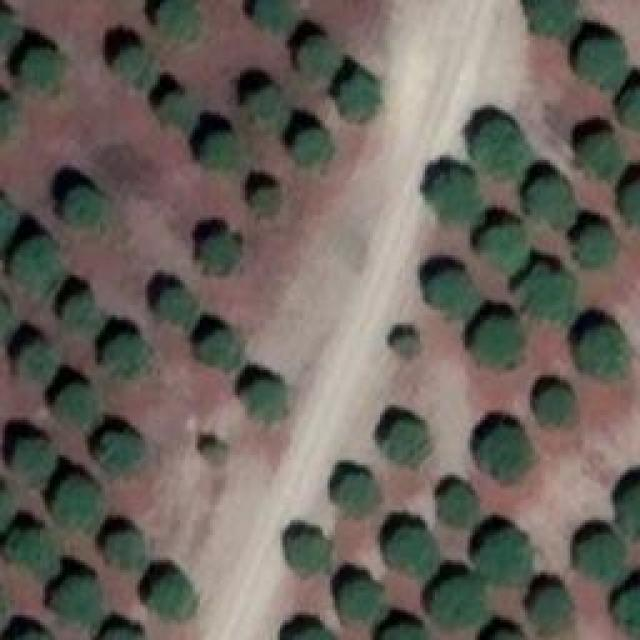Tree: (473, 120, 533, 180), (428, 168, 483, 223), (520, 265, 573, 320), (475, 530, 530, 583), (580, 38, 630, 93), (480, 428, 530, 483), (5, 530, 58, 580), (12, 240, 60, 295), (428, 270, 483, 318), (527, 175, 575, 228), (433, 577, 486, 625), (388, 528, 438, 578), (577, 130, 625, 180), (577, 328, 625, 378), (58, 480, 103, 530), (53, 578, 103, 623), (483, 223, 528, 273), (575, 535, 625, 580), (478, 318, 521, 368), (530, 590, 573, 638), (385, 423, 430, 468), (58, 385, 103, 428), (523, 0, 578, 35), (153, 575, 196, 618), (288, 533, 331, 576), (157, 0, 200, 42), (105, 335, 150, 375), (198, 330, 241, 368), (338, 475, 378, 515), (160, 88, 195, 133), (340, 73, 375, 118), (200, 235, 238, 275), (158, 287, 198, 325), (247, 383, 285, 423), (13, 442, 53, 480), (340, 580, 380, 618), (250, 88, 285, 131), (300, 40, 338, 78), (63, 293, 98, 333), (438, 488, 478, 523), (23, 50, 58, 88), (293, 130, 328, 168), (20, 342, 55, 380), (580, 227, 615, 265), (617, 582, 640, 639), (105, 533, 143, 566), (63, 188, 98, 223), (203, 133, 238, 168), (103, 433, 138, 468), (540, 388, 575, 423), (257, 0, 294, 32), (118, 50, 151, 85), (622, 480, 640, 543), (622, 182, 640, 230), (253, 188, 278, 218), (0, 197, 15, 245), (0, 13, 20, 48), (622, 87, 640, 125), (395, 335, 418, 355)
